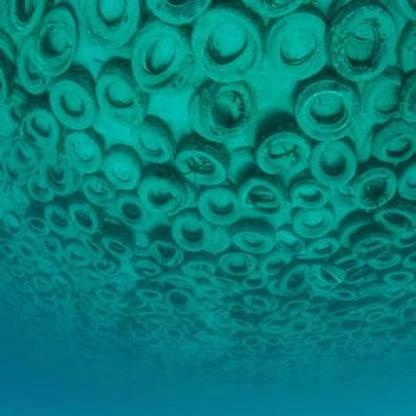tire: (280, 73, 363, 142), (126, 22, 198, 100), (226, 168, 316, 230), (40, 76, 128, 137), (133, 176, 219, 234), (97, 58, 164, 128), (198, 81, 252, 146), (97, 141, 153, 192), (229, 219, 294, 262), (46, 147, 97, 200), (65, 202, 108, 238)
